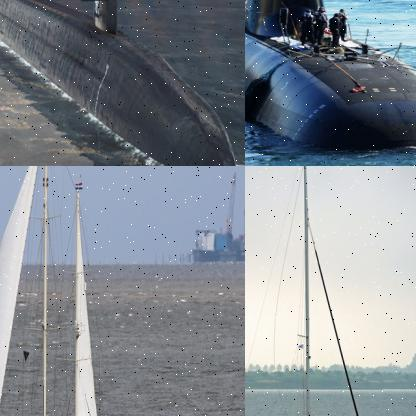Sails Boat: (245, 166, 385, 415), (0, 166, 122, 415)
Submarine: (0, 0, 238, 165), (245, 0, 415, 153)
